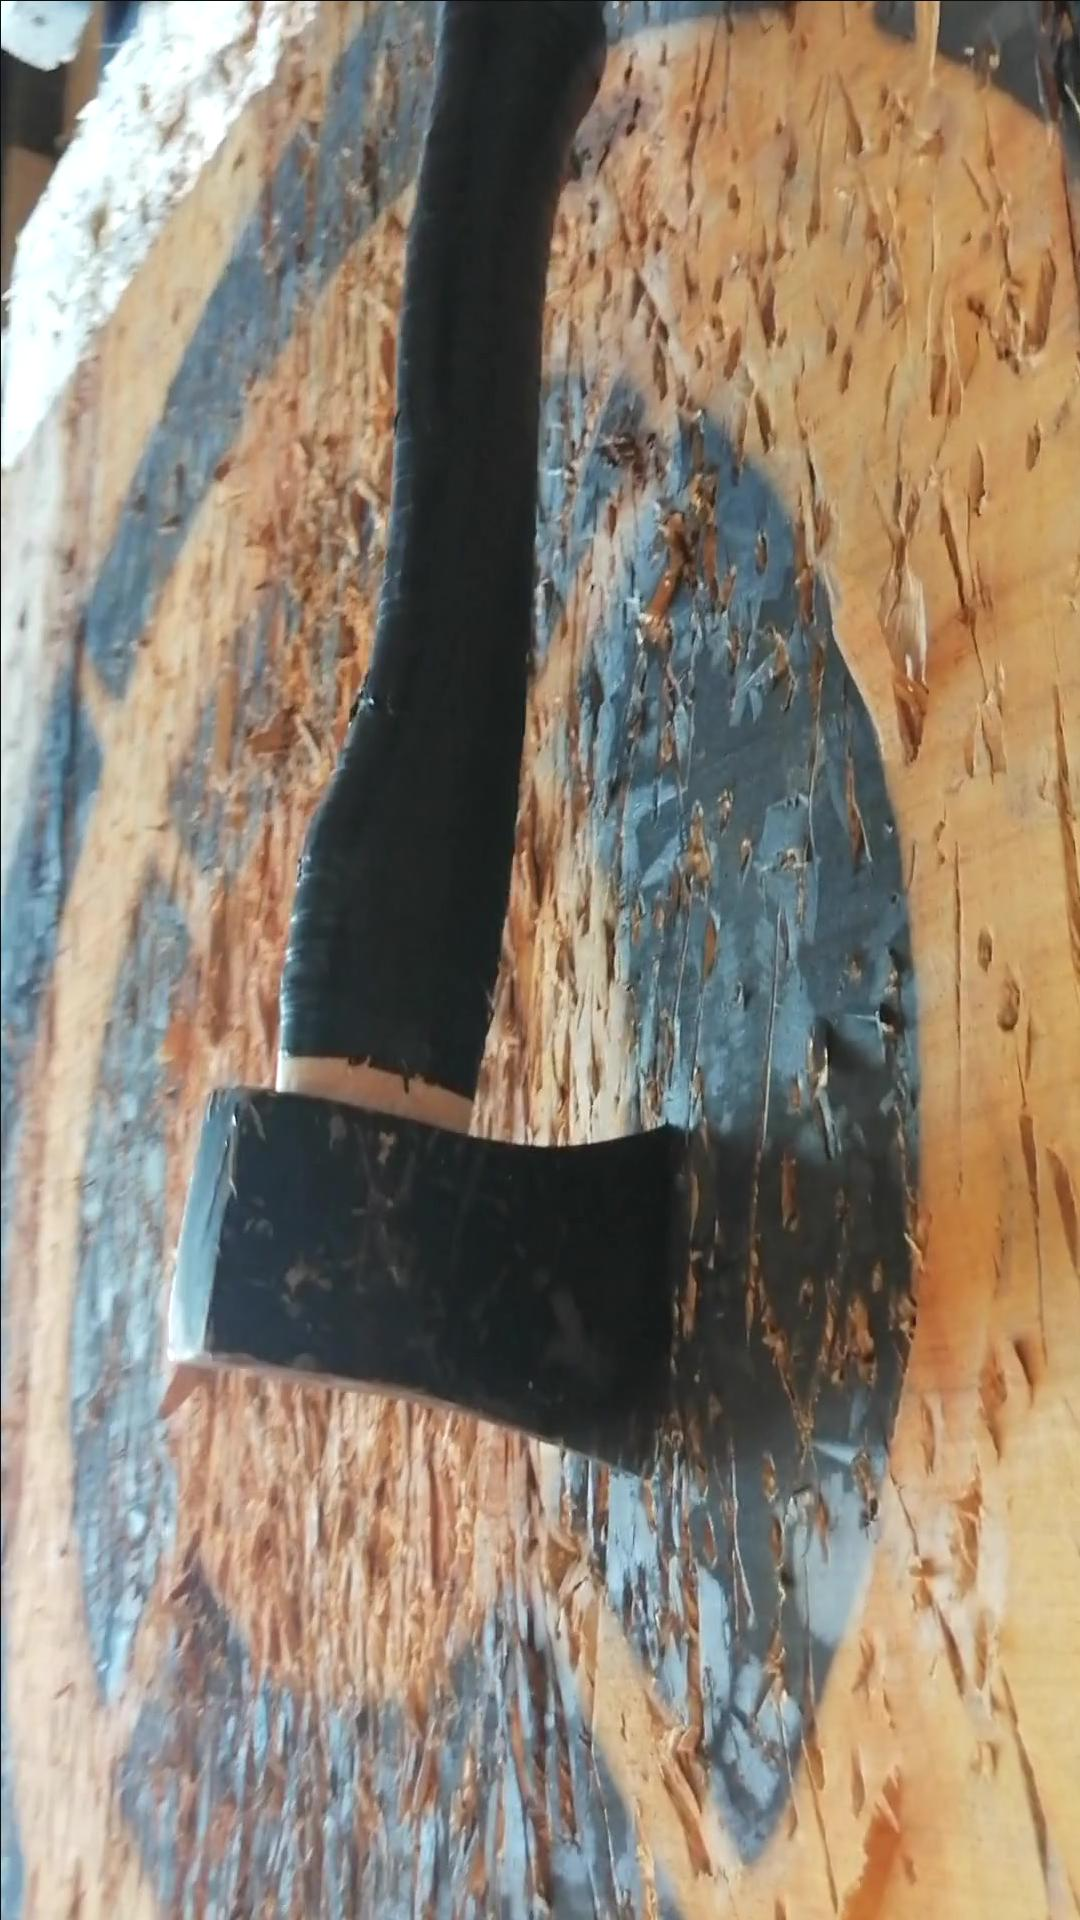Hand Axe: (170, 1075, 684, 1477)
